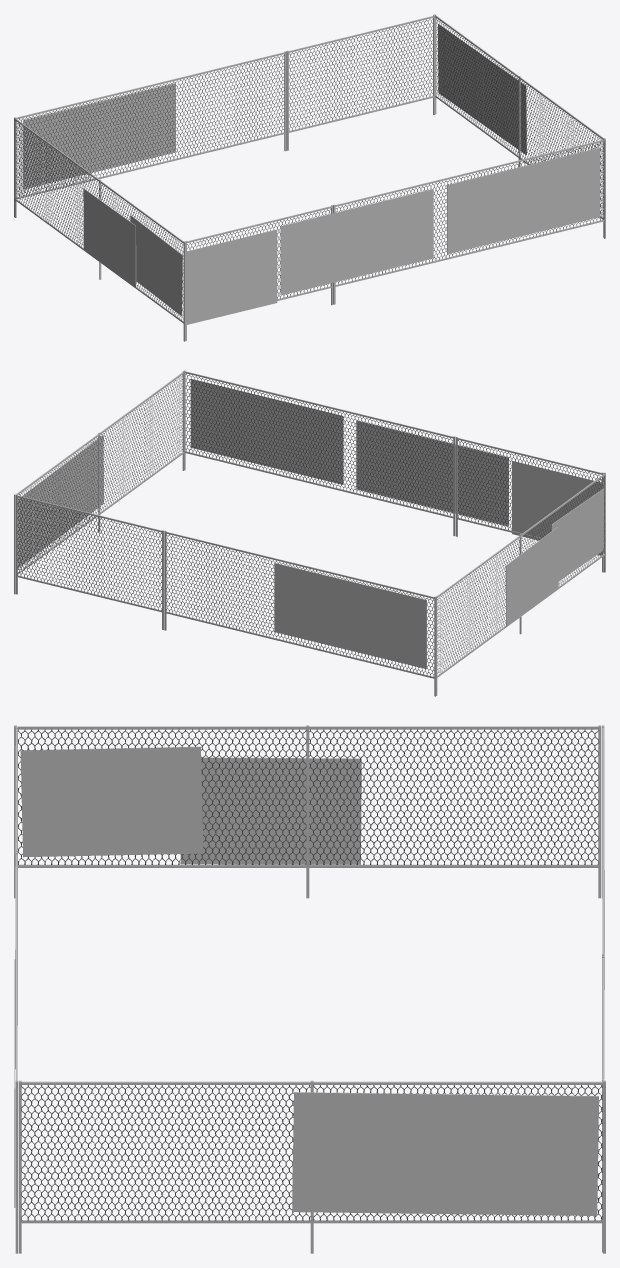
File: mallbil_rooftopfence04a.fbx
3 views of the same model, one above another, from view 1: azimuth 30°, elevation 25°; view 2: azimuth 150°, elevation 25°; view 3: azimuth 270°, elevation 25° (orthographic). The views are drawn at different scales.
Parts seen in each view (by area): view 1: mallbil_rooftopfence04a; view 2: mallbil_rooftopfence04a; view 3: mallbil_rooftopfence04a.
Part boxes in pixels (box(x1,y1,x2,y2)): mallbil_rooftopfence04a: box(14, 14, 605, 341); mallbil_rooftopfence04a: box(14, 370, 605, 696); mallbil_rooftopfence04a: box(14, 725, 605, 1253).
Bounding box in the file's own units: 967 × 217 × 676.
